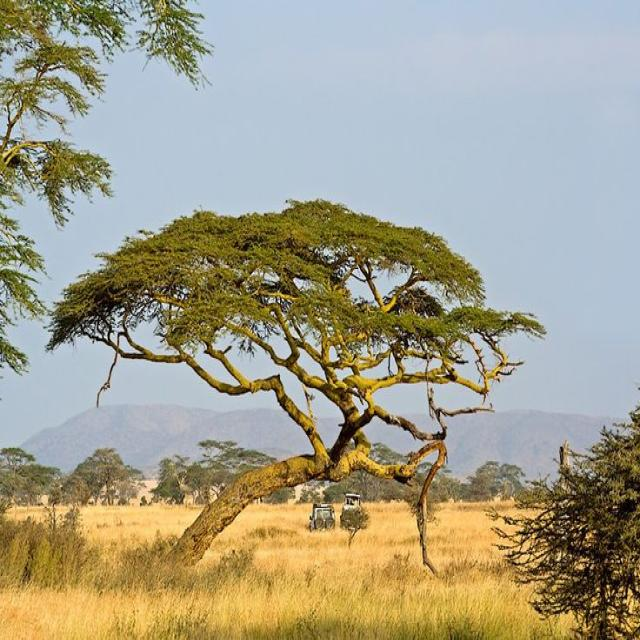Acacia: (98, 226, 488, 526)
